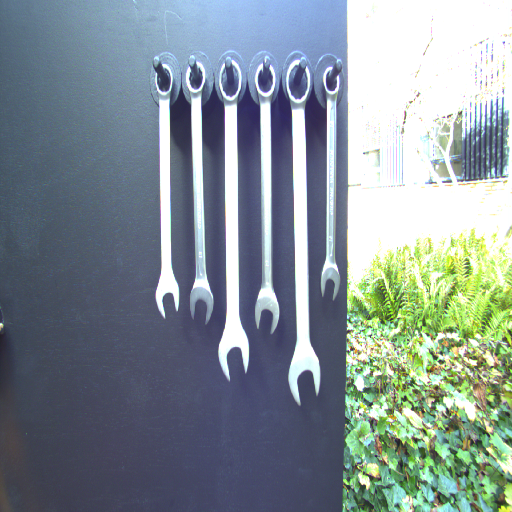bottom: (286, 344, 322, 406), (218, 324, 250, 383), (152, 271, 183, 320), (252, 289, 282, 336), (188, 279, 215, 327), (317, 262, 343, 303)
top: (283, 57, 312, 110), (217, 57, 242, 106), (252, 59, 278, 103), (151, 60, 177, 102), (183, 59, 209, 99), (319, 62, 344, 100)
